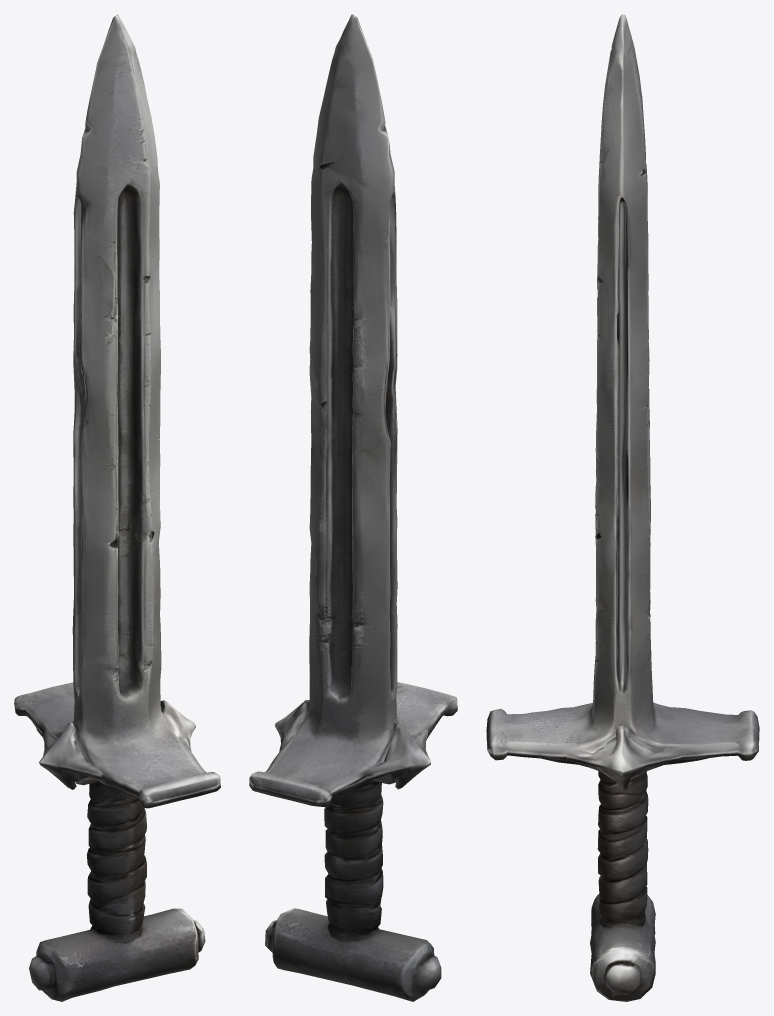
The model's file is w_rusted_sword.glb.
3 renders of one model, left to right at view 1: azimuth 30°, elevation 25°; view 2: azimuth 150°, elevation 25°; view 3: azimuth 270°, elevation 25°, orthographic.
Visible parts, largest first — view 1: tripo_node_0918422c-254e-4ecb-86cf-7f1f0649fb80; view 2: tripo_node_0918422c-254e-4ecb-86cf-7f1f0649fb80; view 3: tripo_node_0918422c-254e-4ecb-86cf-7f1f0649fb80.
Boxes of the visible parts, x1,y1,x2,y2 form: tripo_node_0918422c-254e-4ecb-86cf-7f1f0649fb80: [14, 14, 220, 1001]; tripo_node_0918422c-254e-4ecb-86cf-7f1f0649fb80: [249, 14, 457, 1001]; tripo_node_0918422c-254e-4ecb-86cf-7f1f0649fb80: [486, 14, 759, 1001].
Size of the model in its own units: 0.1855 by 1 by 0.2585.
1 material, 1 textured.
